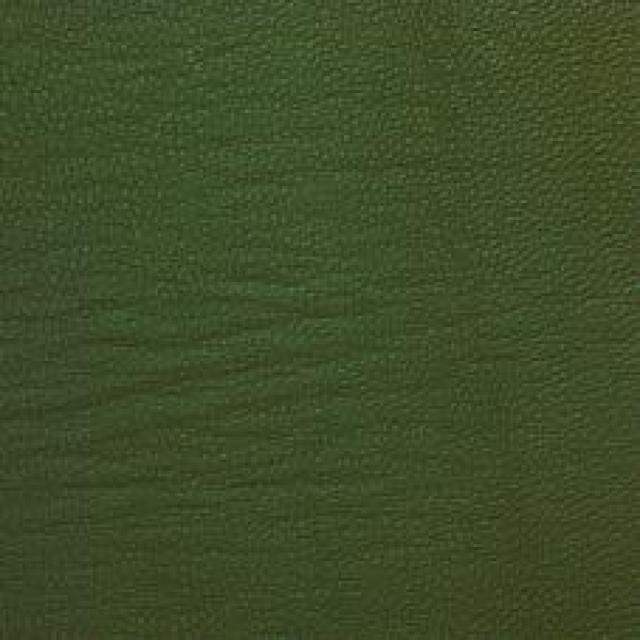Growth Marks: (77, 304, 406, 506)
